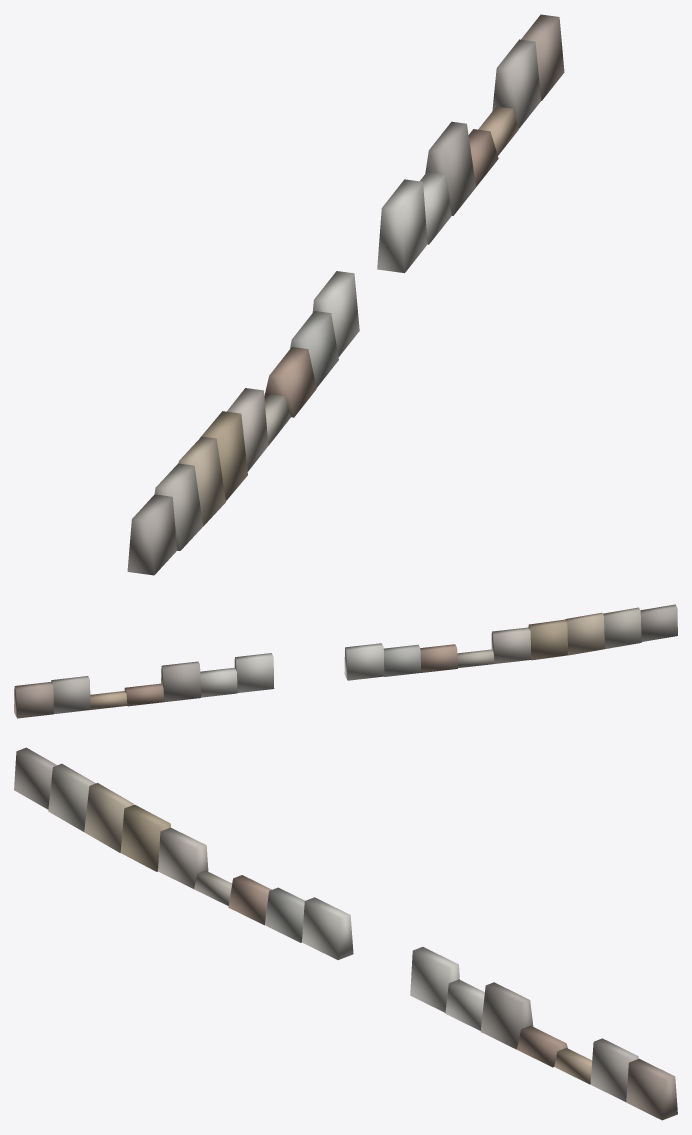
Rendered from farm_1_7_collision.glb.
3 renders of one model, top to bottom at view 1: azimuth 30°, elevation 25°; view 2: azimuth 150°, elevation 25°; view 3: azimuth 270°, elevation 25°, orthographic. The views are drawn at different scales.
Parts seen in each view (by area): view 1: geometry_0; view 2: geometry_0; view 3: geometry_0.
Boxes of the visible parts, left/top/right/bottom form: geometry_0: left=127, top=14, right=564, bottom=575; geometry_0: left=14, top=604, right=677, bottom=718; geometry_0: left=14, top=747, right=677, bottom=1120.
Size of the model in its own units: 21.36 by 2.23 by 19.58.
